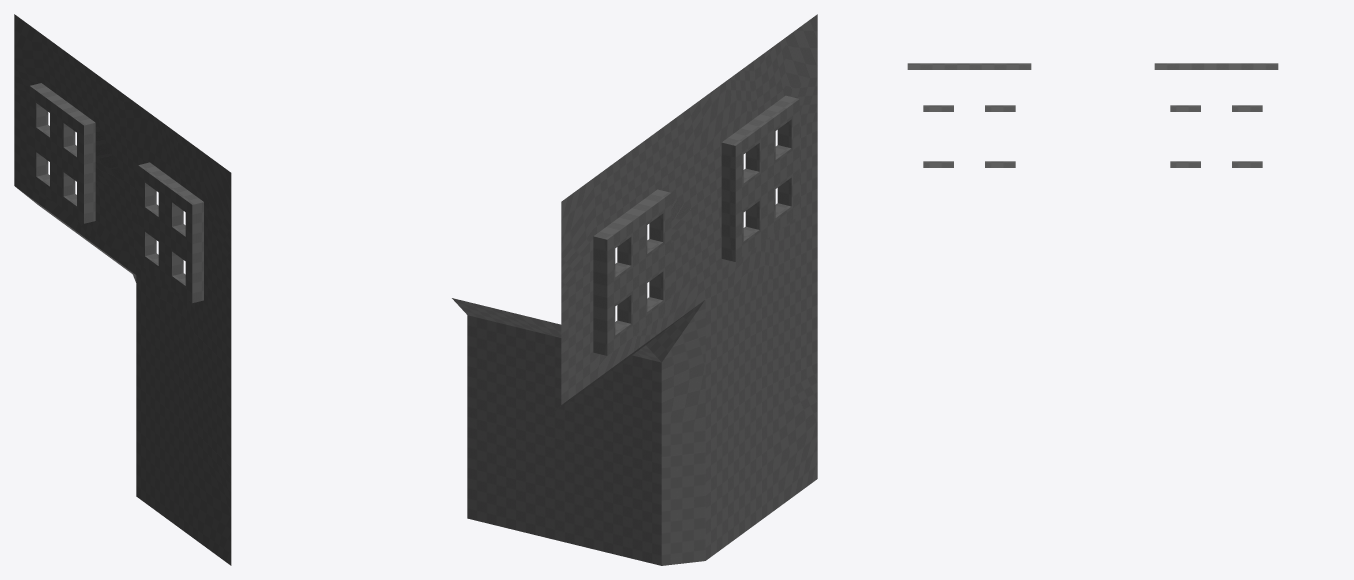
3 views of the same model, side by side, from view 1: azimuth 30°, elevation 25°; view 2: azimuth 150°, elevation 25°; view 3: azimuth 270°, elevation 25° (orthographic). The views are drawn at different scales.
Visible parts, largest first — view 1: 2; view 2: 2; view 3: 2.
Boxes of the visible parts, bbox=[...] form: 2: bbox=[14, 14, 231, 565]; 2: bbox=[452, 14, 817, 565]; 2: bbox=[907, 63, 1278, 167].
Size of the model in its own units: 2.12 by 4 by 4.
2 materials, 2 textured.
